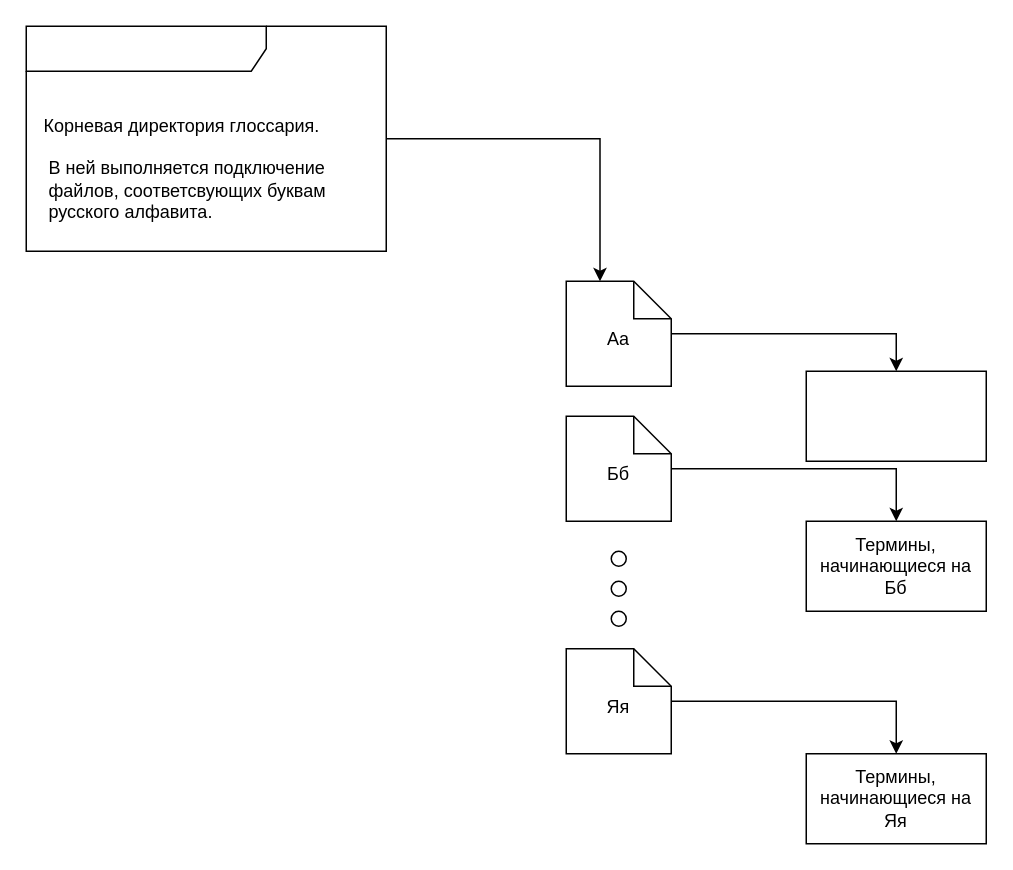
The diagram is 1013 pixels wide and 870 high, and some of its shapes have lost their labels. The box of each missing label's shape, as (x1, y1, x2, y2) in pixels:
glossary: (25, 25, 386, 251)
Термины, начинающиеся на Аа: (805, 370, 986, 461)
